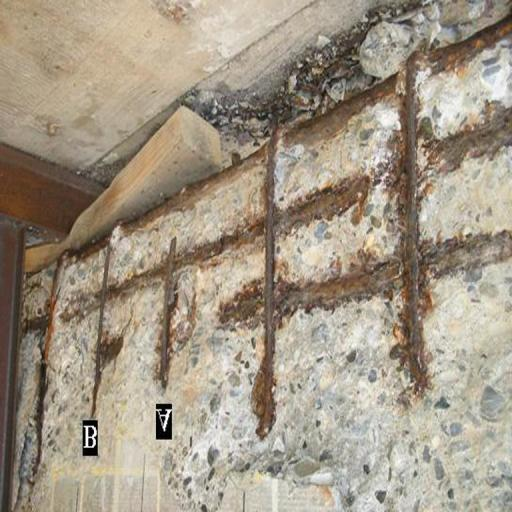spalling: (22, 9, 512, 512)
